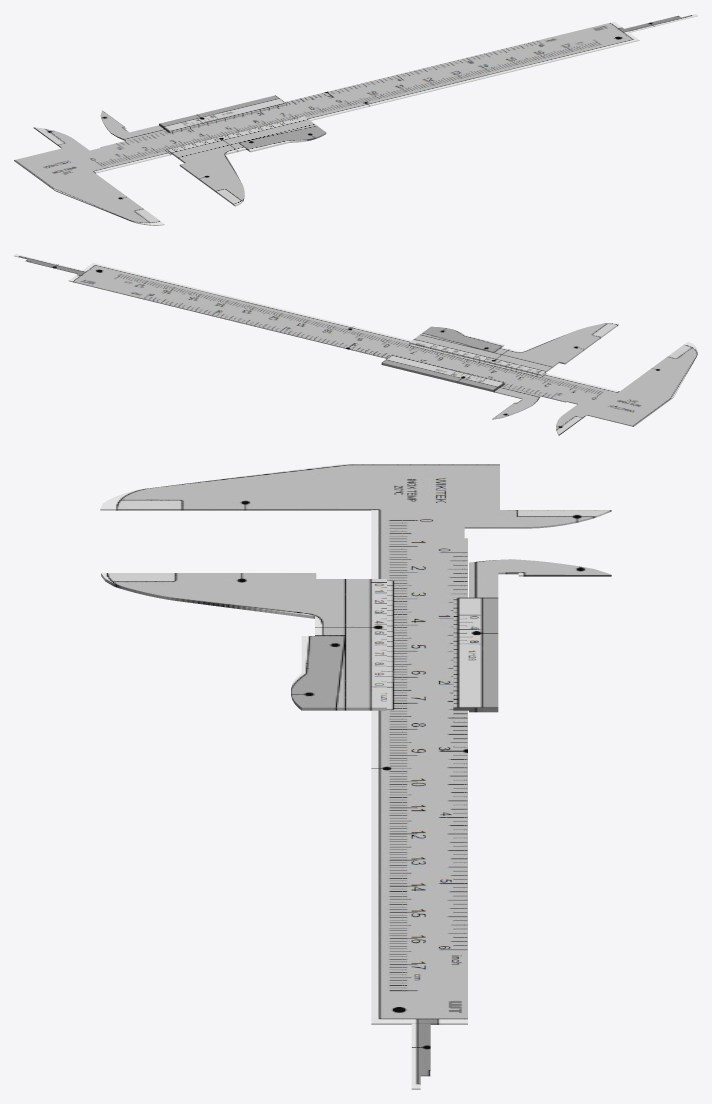
Rendered from Jangka sorong.fbx.
The picture shows the model from 3 angles, top to bottom: view 1: azimuth 30°, elevation 25°; view 2: azimuth 150°, elevation 25°; view 3: azimuth 270°, elevation 25°; orthographic projection. The views are drawn at different scales.
Visible parts, largest first — view 1: Cube.043, Cube.045, Cube.044; view 2: Cube.043, Cube.045, Cube.044; view 3: Cube.043, Cube.045, Cube.044.
Boxes of the visible parts, box(x1,y1,x2,y2) form: Cube.043: box(14, 14, 697, 225); Cube.045: box(167, 116, 326, 206); Cube.044: box(100, 95, 287, 140); Cube.043: box(14, 254, 697, 435); Cube.045: box(409, 323, 618, 375); Cube.044: box(381, 354, 540, 419); Cube.043: box(100, 464, 611, 1089); Cube.045: box(101, 573, 386, 710); Cube.044: box(453, 559, 611, 712).
Bounding box in the file's own units: 23.22 × 0.0787 × 8.04.
3 materials, 3 textured.
